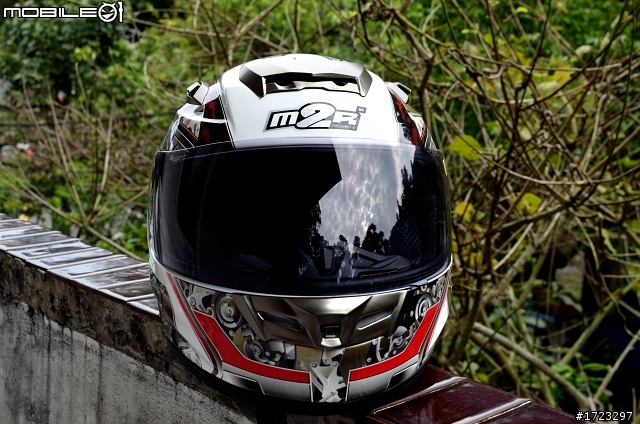helmet: (166, 80, 439, 371)
